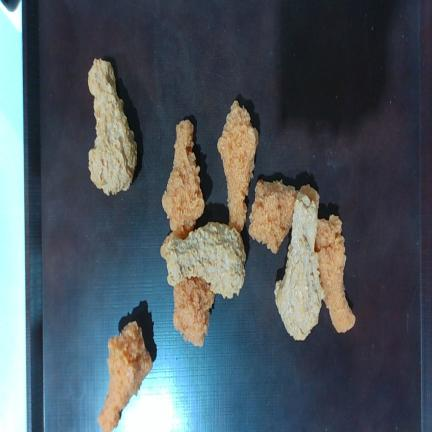chicken: (274, 185, 324, 340), (88, 59, 137, 195), (165, 222, 246, 298), (98, 321, 153, 431), (218, 100, 258, 232), (162, 119, 204, 238), (315, 215, 355, 332), (249, 180, 297, 253), (173, 278, 214, 346)
